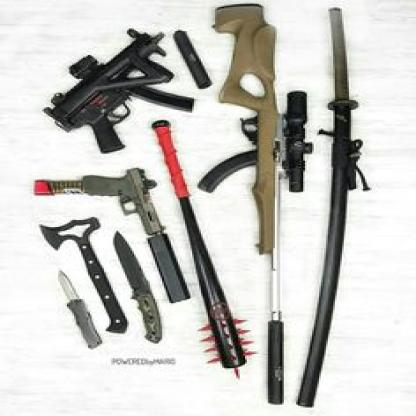Gun: (196, 3, 314, 405), (42, 25, 197, 156)
Knife: (110, 228, 166, 345), (56, 268, 104, 350)
Pistol: (33, 165, 190, 306)
